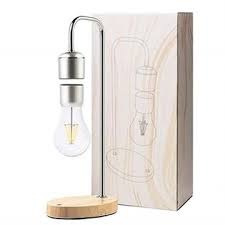bulb: (43, 90, 102, 161)
